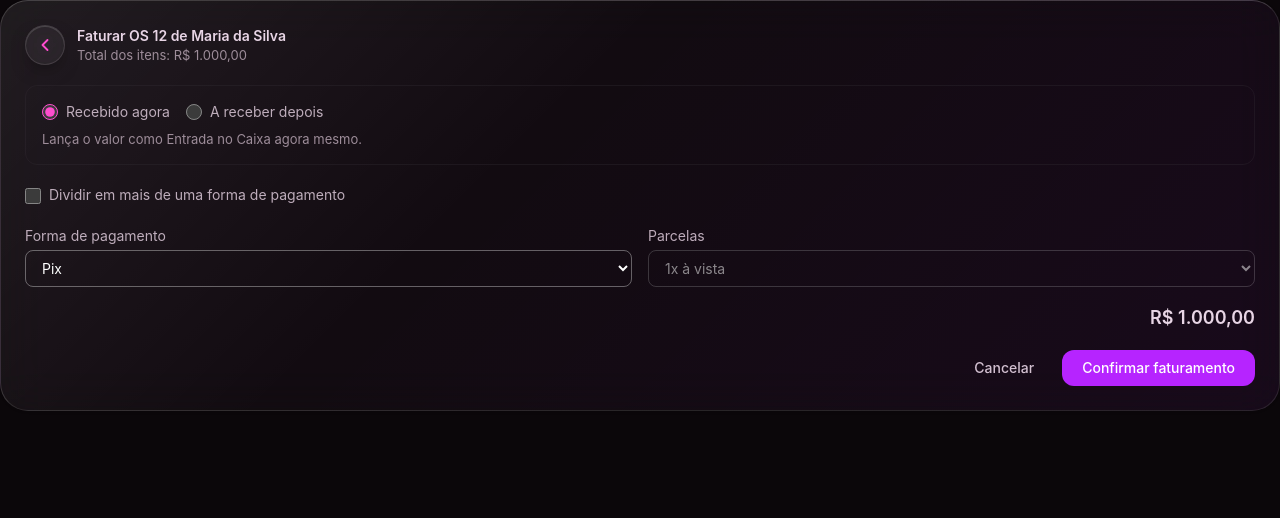
Scenario: FaturamentoCard — pagamento dividido › o parcelamento só abre no cartão de crédito
The width and height of the screenshot is (1280, 518).
Click the checkbox labelled "Dividir em mais de uma forma de pagamento" at (33, 196), box [25, 188, 41, 204]
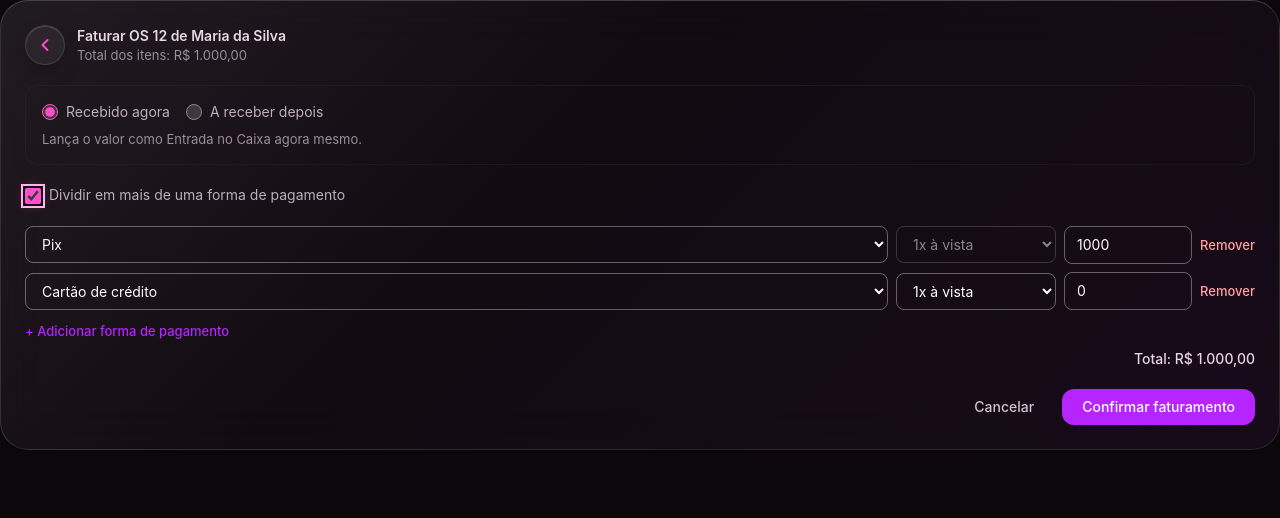
Result: the dropdown named "Só o cartão de crédito parcela" is disabled at [896, 226, 1056, 263]
Select "Cartão de crédito" in the 1st dropdown at (457, 245), box [25, 226, 888, 263]
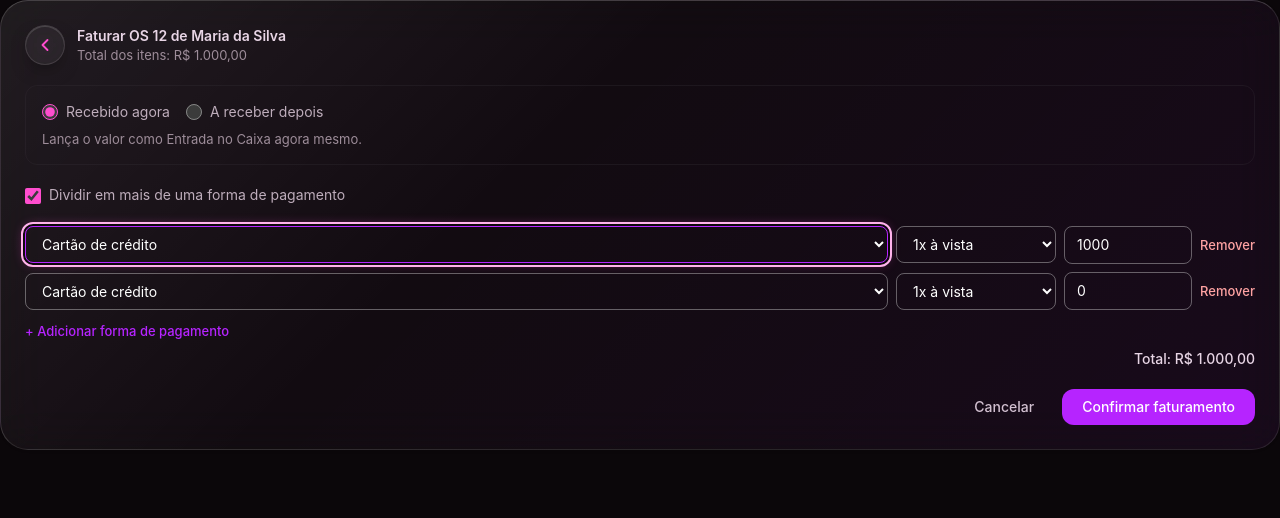
Result: the 1st dropdown named "Em quantas vezes o cliente passou no cartão" is enabled
Select "3x (5% juros)" in the 1st dropdown named "Em quantas vezes o cliente passou no cartão" at (976, 245), box [896, 226, 1056, 263]
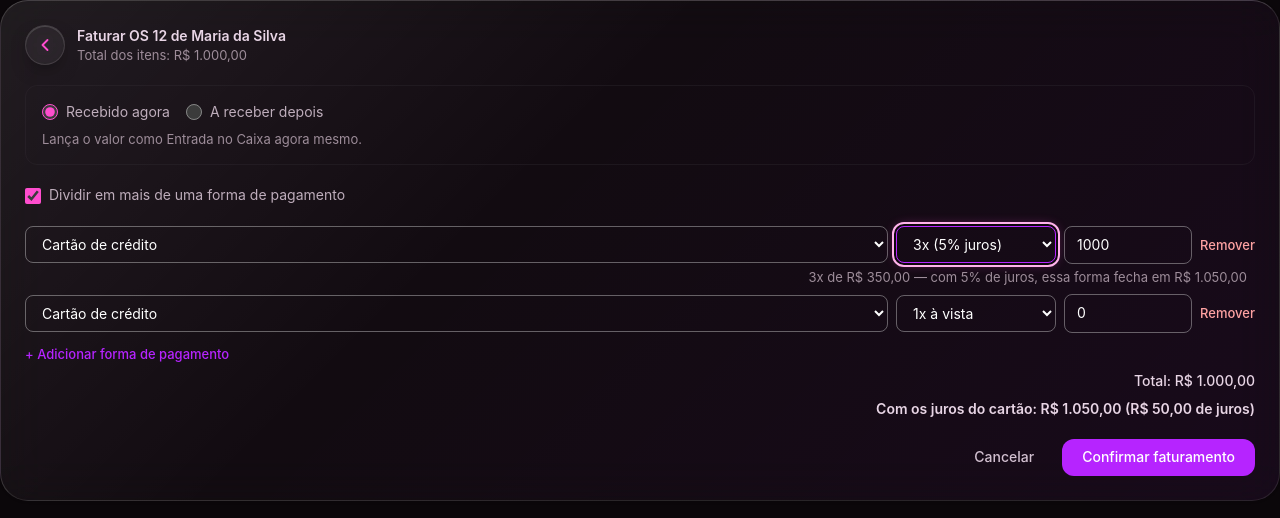
Select "Dinheiro" in the 1st dropdown at (457, 245), box [25, 226, 888, 263]
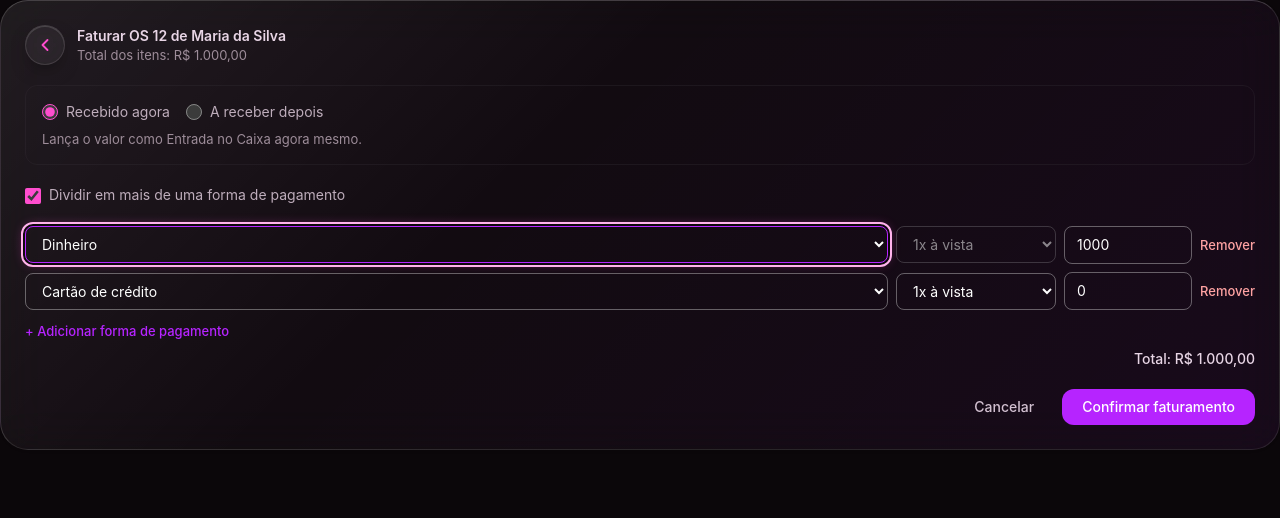
Result: the dropdown named "Só o cartão de crédito parcela" is disabled at [896, 226, 1056, 263]
